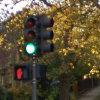Traffic light: (14, 9, 73, 67)
